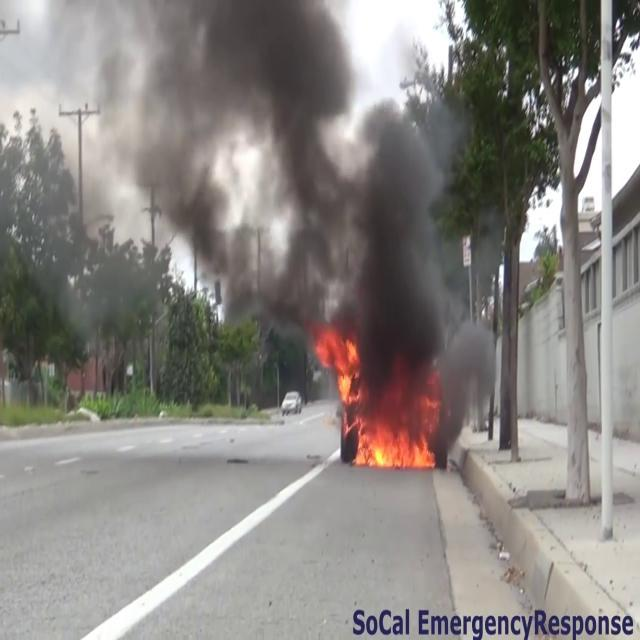Fire: (351, 412, 433, 474), (310, 326, 362, 399)
Smoke: (19, 0, 471, 378)
